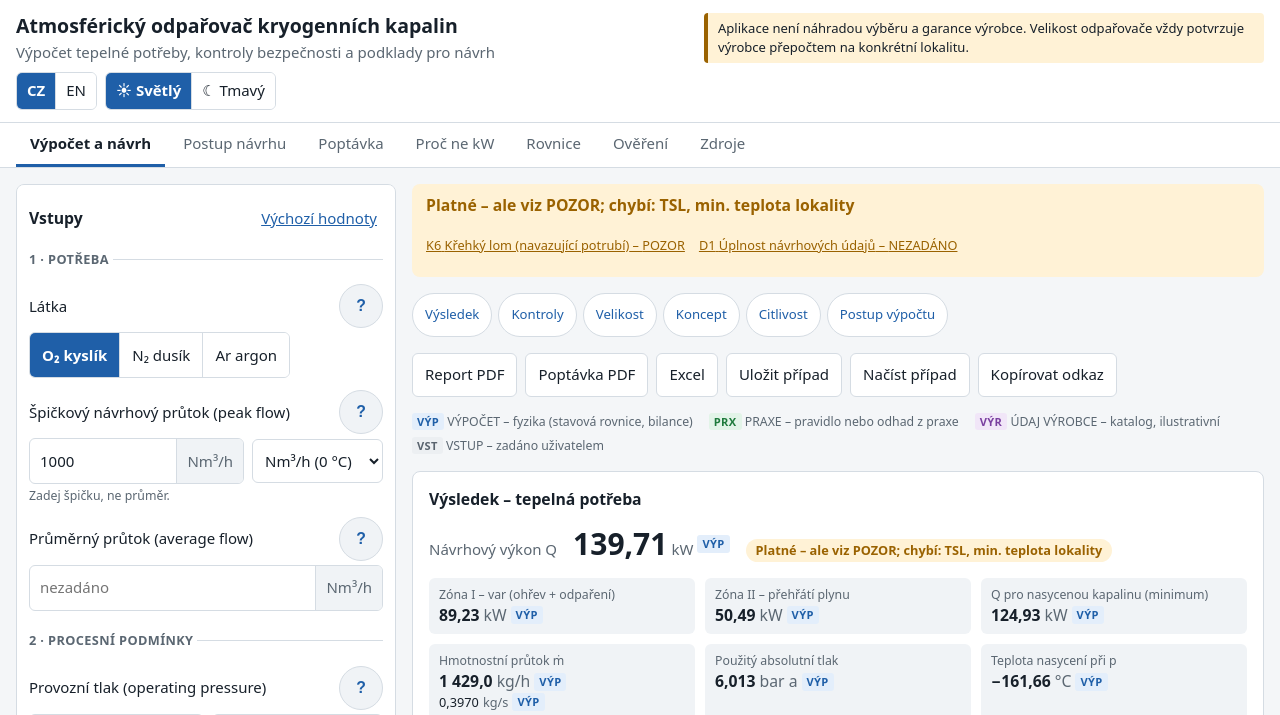
Scenario: interakce › přepnutí jednotky průtoku převede hodnotu (1000 Nm³/h = 1054,9 Sm³/h)
Select "Sm³/h (15 °C)" in the dropdown named "Jednotka průtoku" at {"x": 318, "y": 462}, box [252,440,383,484]
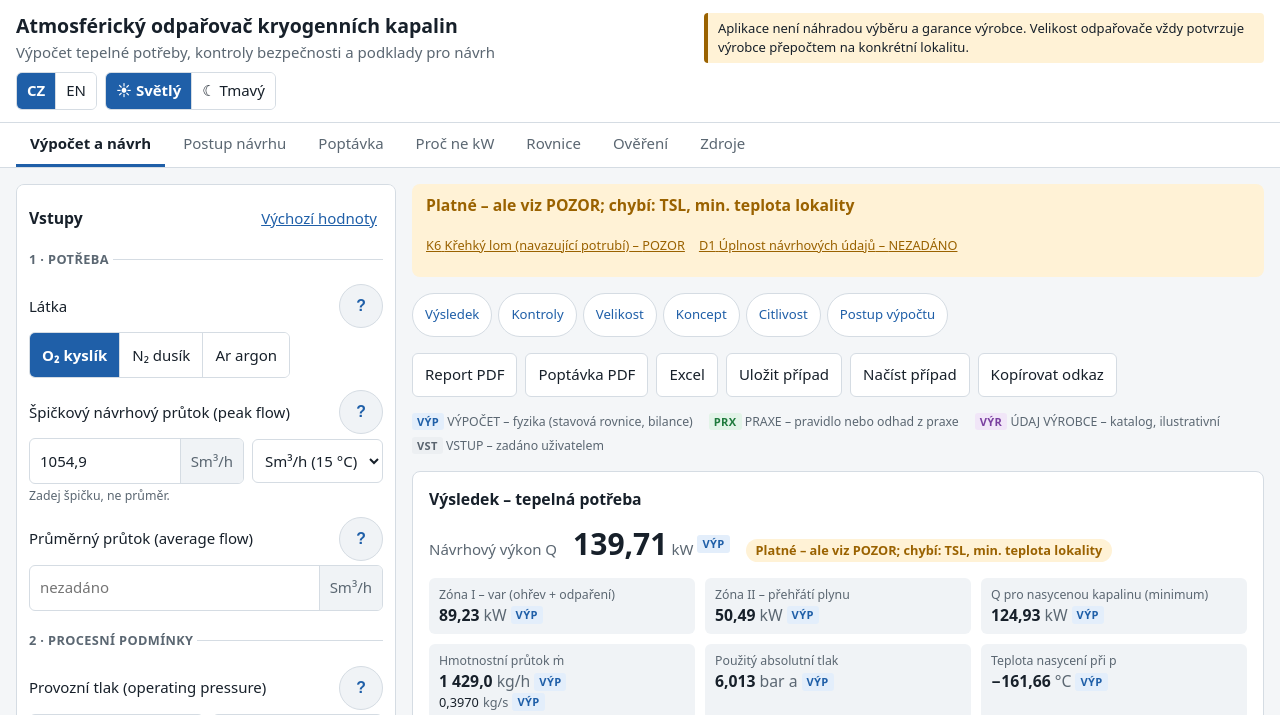
expect the field labelled "Špičkový návrhový průtok (peak flow)" holds "1054,9": met, box [30,440,180,484]
